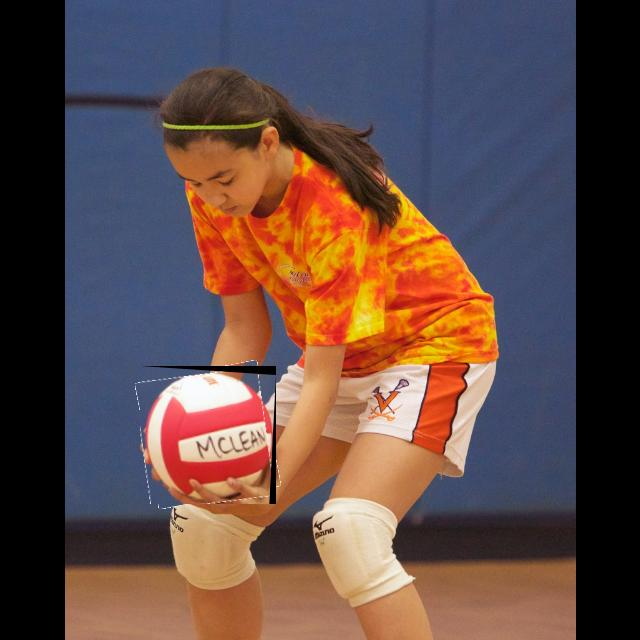Football: (140, 366, 276, 504)
